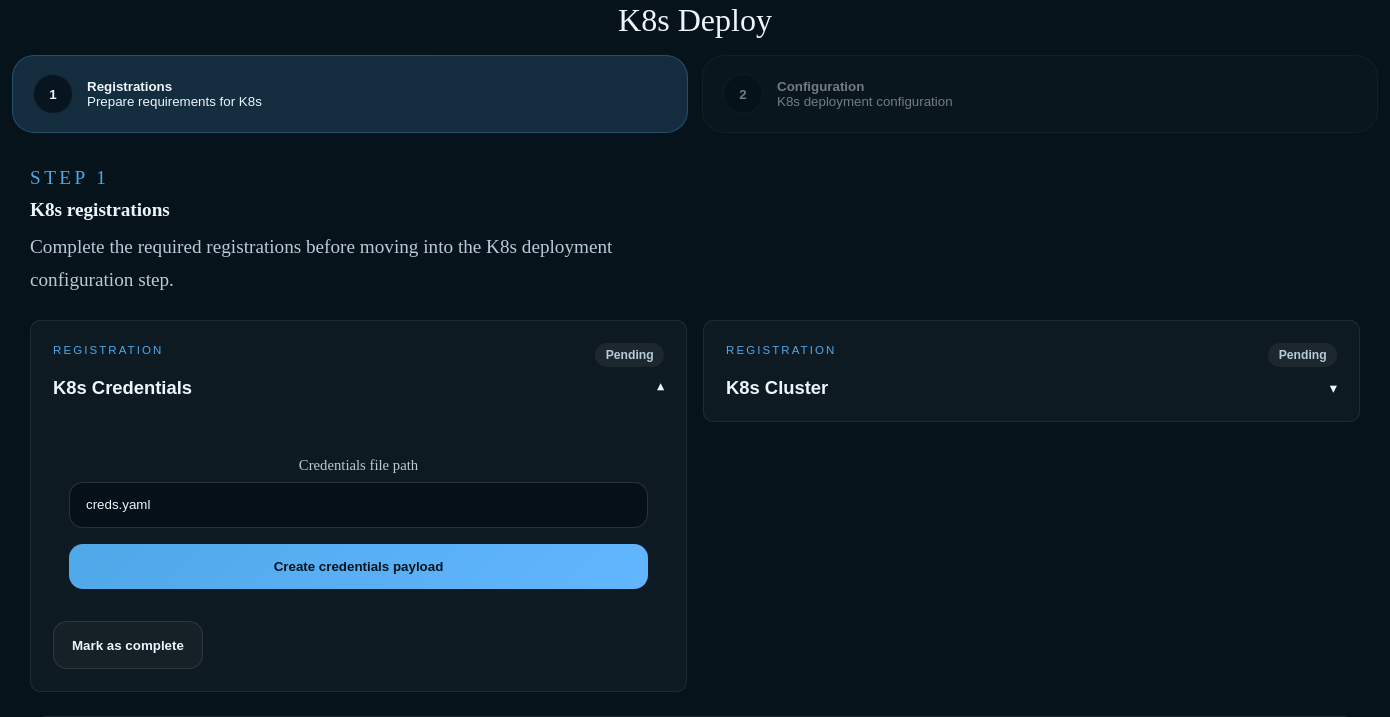
Test: DeploymentPageComponent › K8s flow › opens the K8s deploy configuration step once step 1 is completed
Click the button "Mark as complete": [128, 645] box [53,621,203,669]
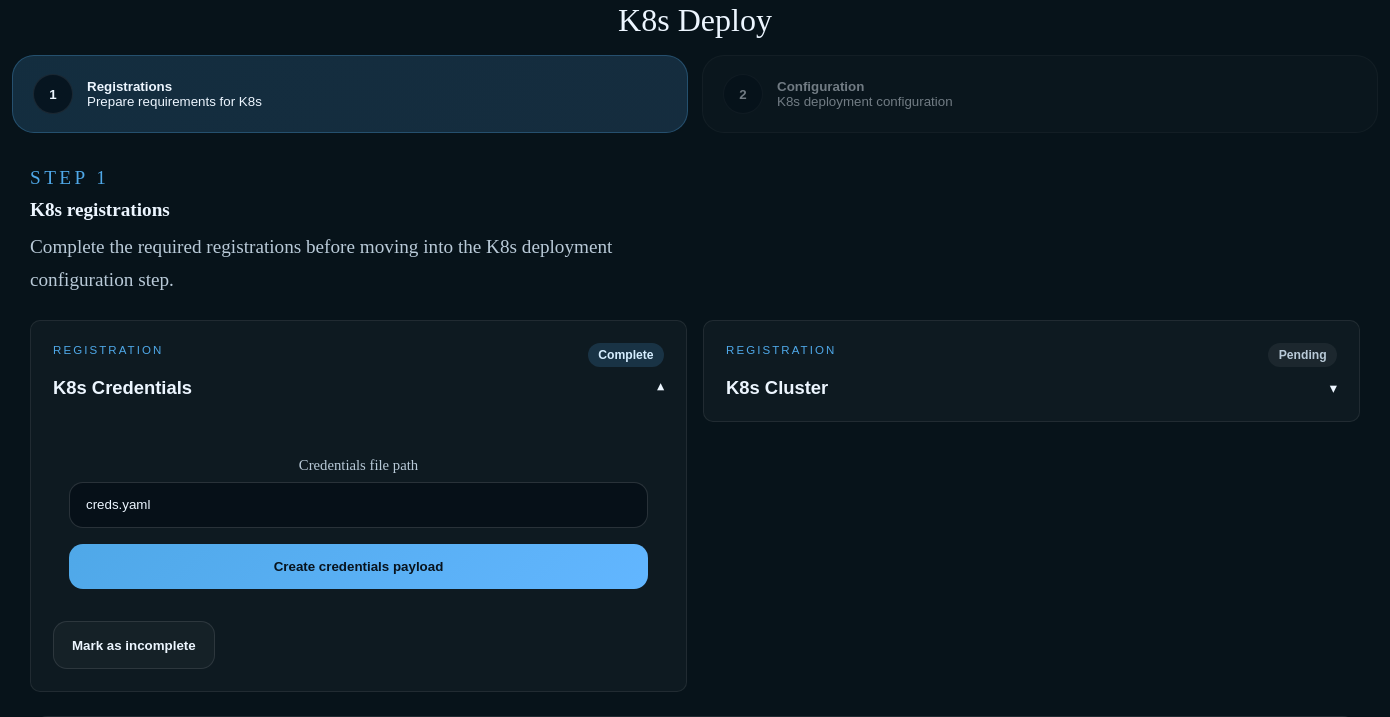
Click the 2nd button with class "deployment-page__requirement-toggle": [781, 350] box [726,343,1337,399]
(page scrolled)
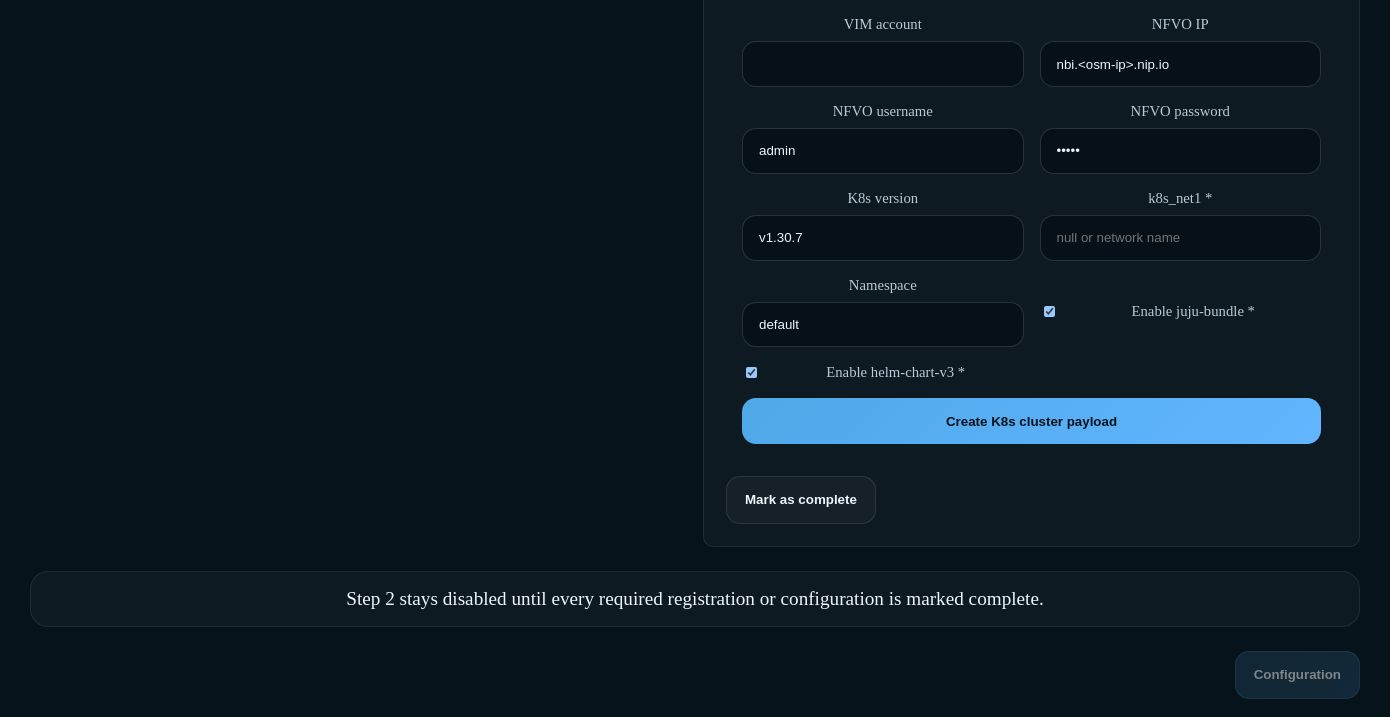
Click the button "Mark as complete": [801, 500] box [726,476,876,524]
(page scrolled)
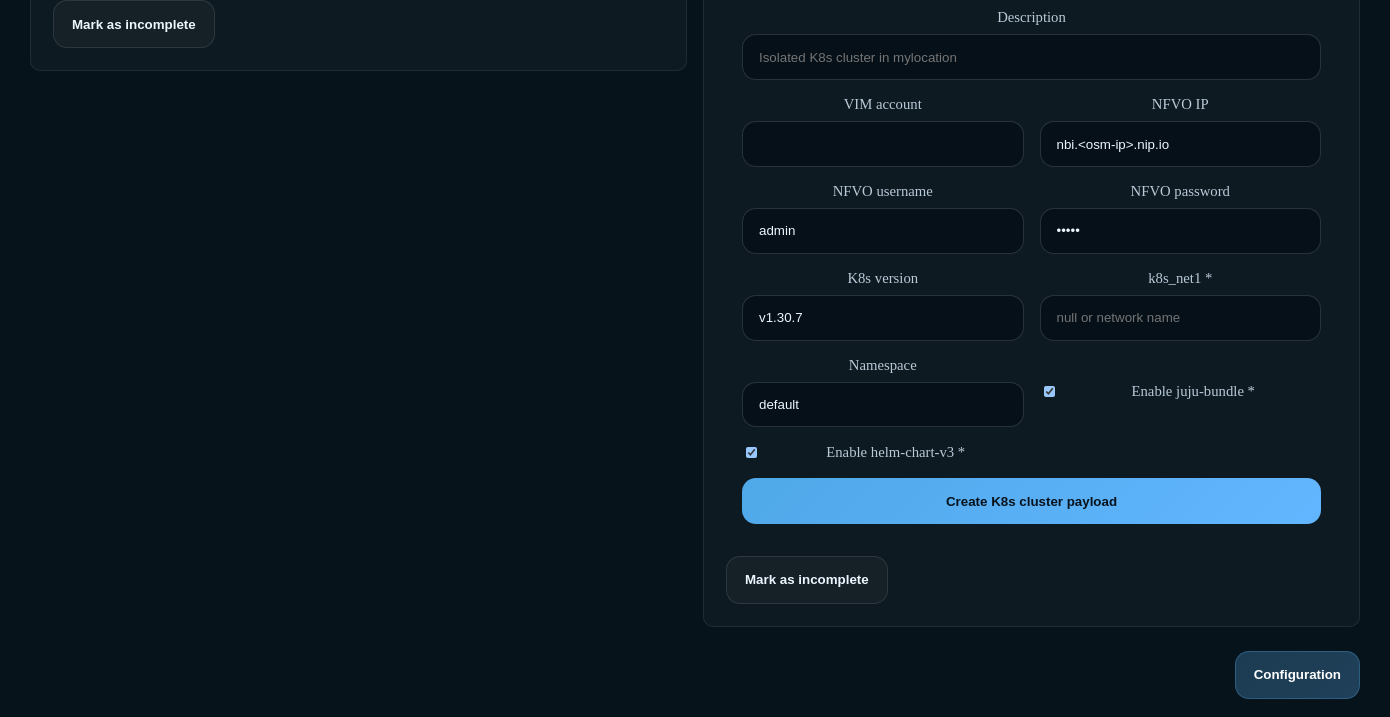
Click the button "Configuration": [1297, 675] box [1235,651,1360,699]
(page scrolled)
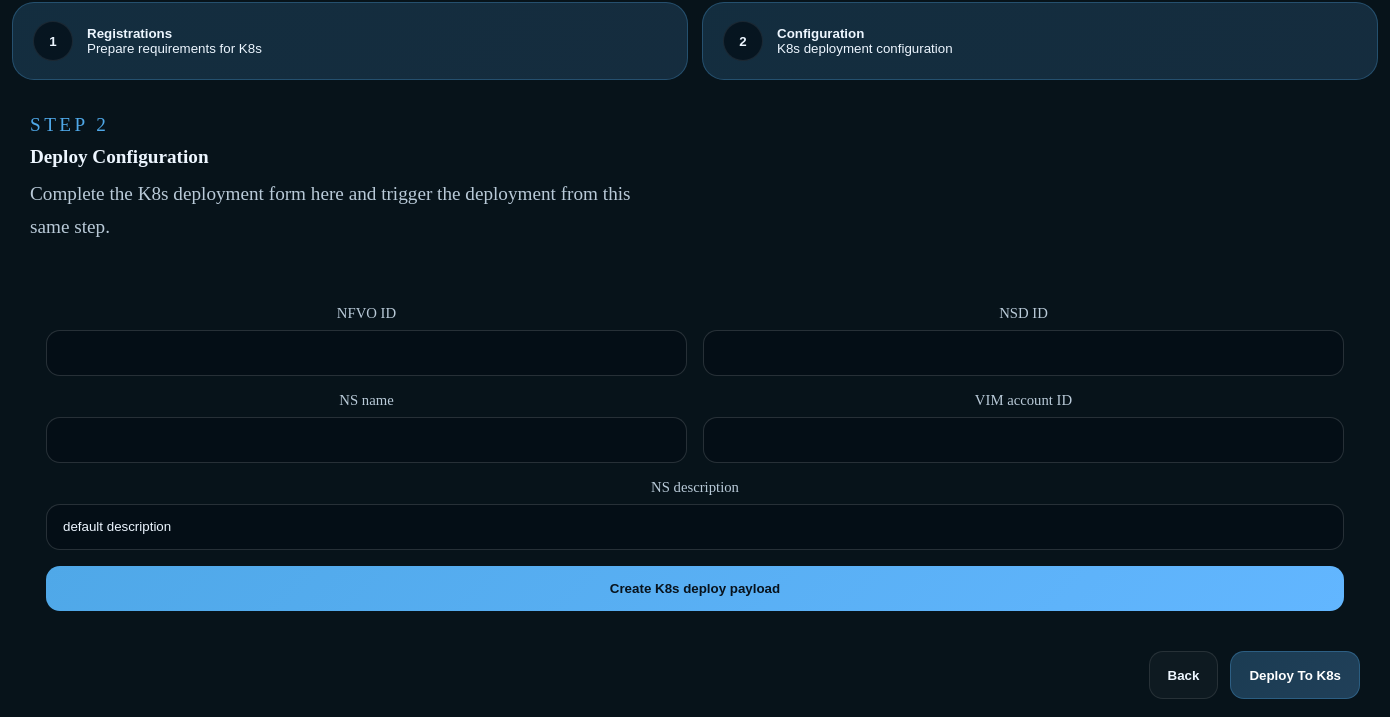
Expected: the text "Deploy Configuration" is shown, [30,146,209,167]
Expected: the text "Complete the K8s deployment form here" is shown, [30,183,630,237]
Expected: the element that starts with "NFVO ID" is shown, [46,305,1344,611]
